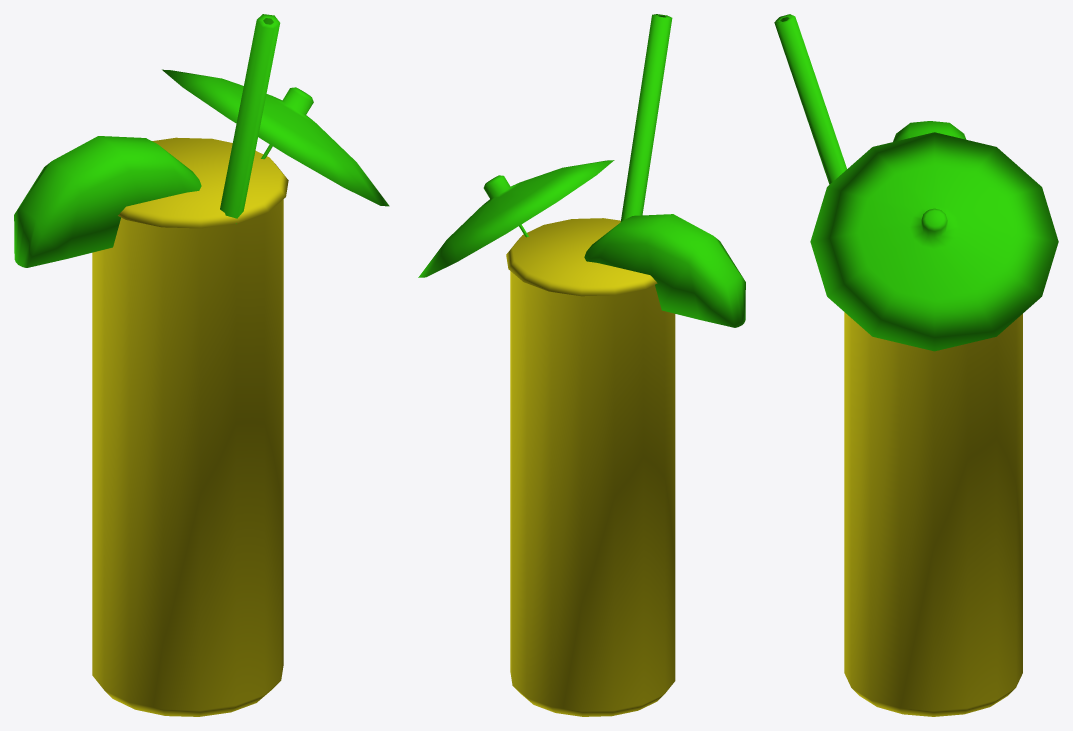
The model's file is BHP_MOD_DRI_Long_Island.fbx.
3 renders of one model, left to right at view 1: azimuth 30°, elevation 25°; view 2: azimuth 150°, elevation 25°; view 3: azimuth 270°, elevation 25°, orthographic. The views are drawn at different scales.
Parts seen in each view (by area): view 1: BHP_MOD_Long_Island_Iced_Tea; view 2: BHP_MOD_Long_Island_Iced_Tea; view 3: BHP_MOD_Long_Island_Iced_Tea.
Part boxes in pixels (<box>): BHP_MOD_Long_Island_Iced_Tea: <box>14,14,389,716</box>; BHP_MOD_Long_Island_Iced_Tea: <box>418,14,745,716</box>; BHP_MOD_Long_Island_Iced_Tea: <box>774,14,1058,716</box>.
Bounding box in the file's own units: 0.181 × 0.3535 × 0.1367.
